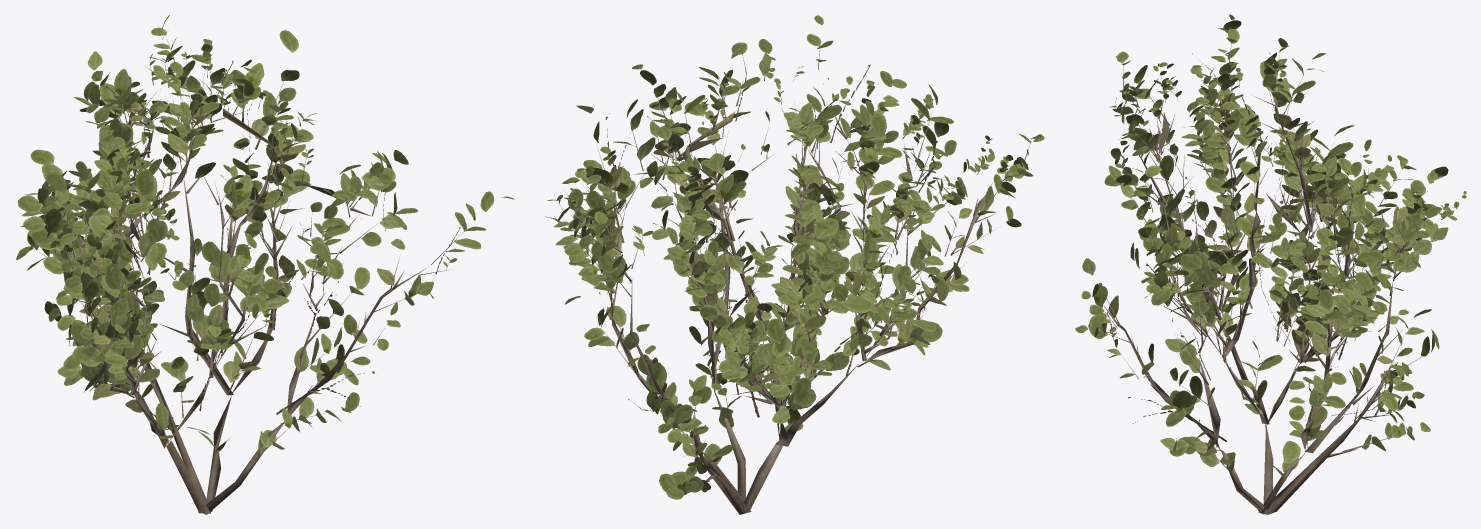
File: ph_shrub_4.glb
3 views of the same model, side by side, from view 1: azimuth 30°, elevation 25°; view 2: azimuth 150°, elevation 25°; view 3: azimuth 270°, elevation 25° (orthographic). The views are drawn at different scales.
Parts seen in each view (by area): view 1: ph_shrub_4_lod1; view 2: ph_shrub_4_lod1; view 3: ph_shrub_4_lod1.
Boxes of the visible parts, box(x1,y1,x2,y2) form: ph_shrub_4_lod1: box(16, 15, 514, 514); ph_shrub_4_lod1: box(545, 15, 1044, 514); ph_shrub_4_lod1: box(1075, 14, 1466, 514).
Bounding box in the file's own units: 1.51 × 1.66 × 1.25.
Materials: 3 (3 with a texture image).
